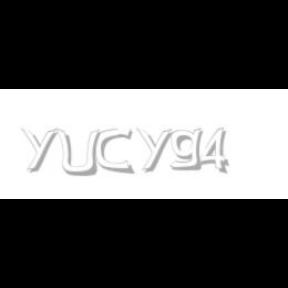4: (198, 128, 230, 174)
C: (96, 128, 132, 174)
U: (55, 128, 100, 178)
g: (170, 128, 206, 171)
y: (21, 128, 61, 172), (136, 128, 176, 172)
